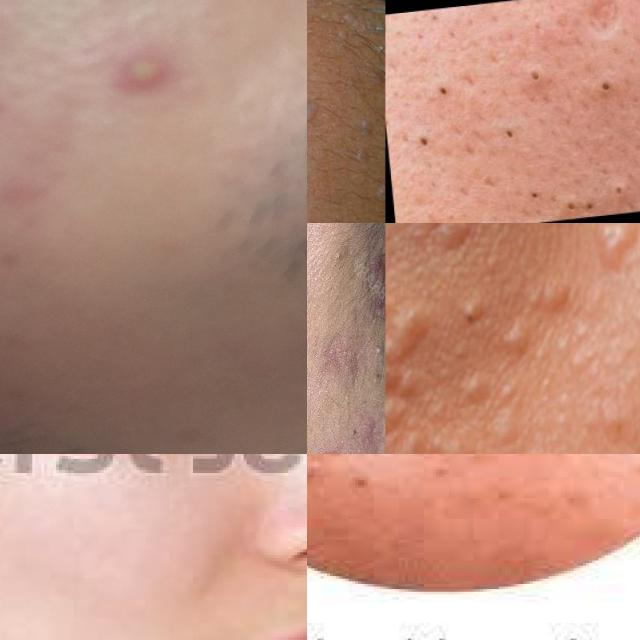acne_scars: (559, 0, 640, 51)
comedone: (403, 62, 477, 119), (408, 454, 489, 500), (555, 175, 630, 218), (578, 68, 626, 112), (415, 115, 449, 169), (491, 110, 529, 150), (521, 182, 544, 223), (314, 454, 358, 467), (525, 65, 548, 89)
syringoma: (385, 223, 473, 454), (551, 223, 640, 296), (340, 104, 378, 172), (307, 0, 362, 33), (367, 167, 385, 223)
